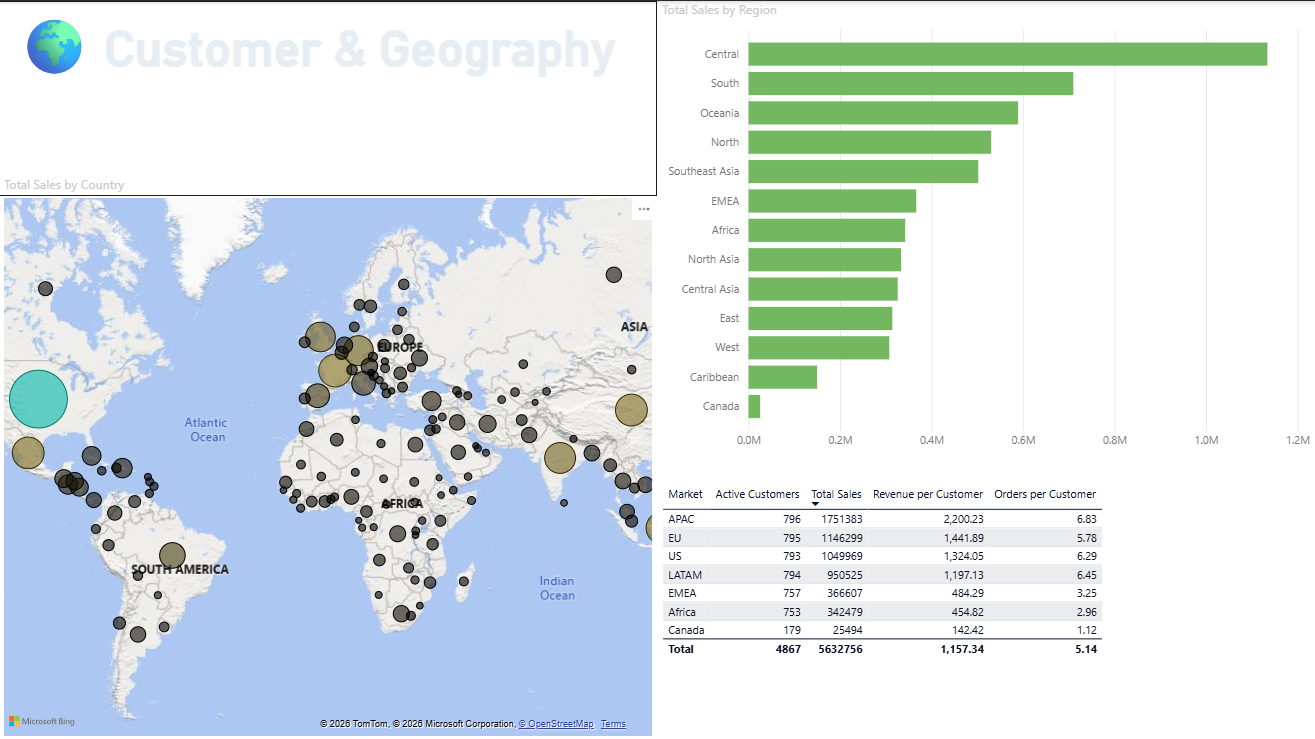

What the dashboard file says about the page in this screenshot:
{"tool":"powerbi","page":{"name":"🌍 Customers","canvas":[1280,720],"ordinal":2},"visuals":[{"type":"map","fields":{"Size":["Fact_Sales.Total Sales"],"Category":["DimGeography.Country"]},"box":[0,170.2,640,549.5],"z":0},{"type":"tableEx","fields":{"Values":["DimGeography.Market","Fact_Sales.Active Customers","Fact_Sales.Total Sales","Fact_Sales.Revenue per Customer","Fact_Sales.Orders per Customer"]},"box":[640,464.9,640,254.8],"z":1},{"type":"textbox","box":[0,0,640,189.7],"z":2},{"type":"clusteredBarChart","fields":{"Category":["DimGeography.Region"],"Y":["Fact_Sales.Total Sales"]},"box":[640,0,640,445.5],"z":3}]}

Visuals, with their boxes in screenshot pixels (x1, y1, x2, y2), scaled from the page's 1280x720 canvas onto the 1315x739 screenshot:
map - Fact_Sales.Total Sales x DimGeography.Country: rect(0, 175, 658, 738)
tableEx - DimGeography.Market x Fact_Sales.Active Customers: rect(658, 477, 1314, 738)
textbox: rect(0, 0, 658, 195)
clusteredBarChart - DimGeography.Region x Fact_Sales.Total Sales: rect(658, 0, 1314, 457)
